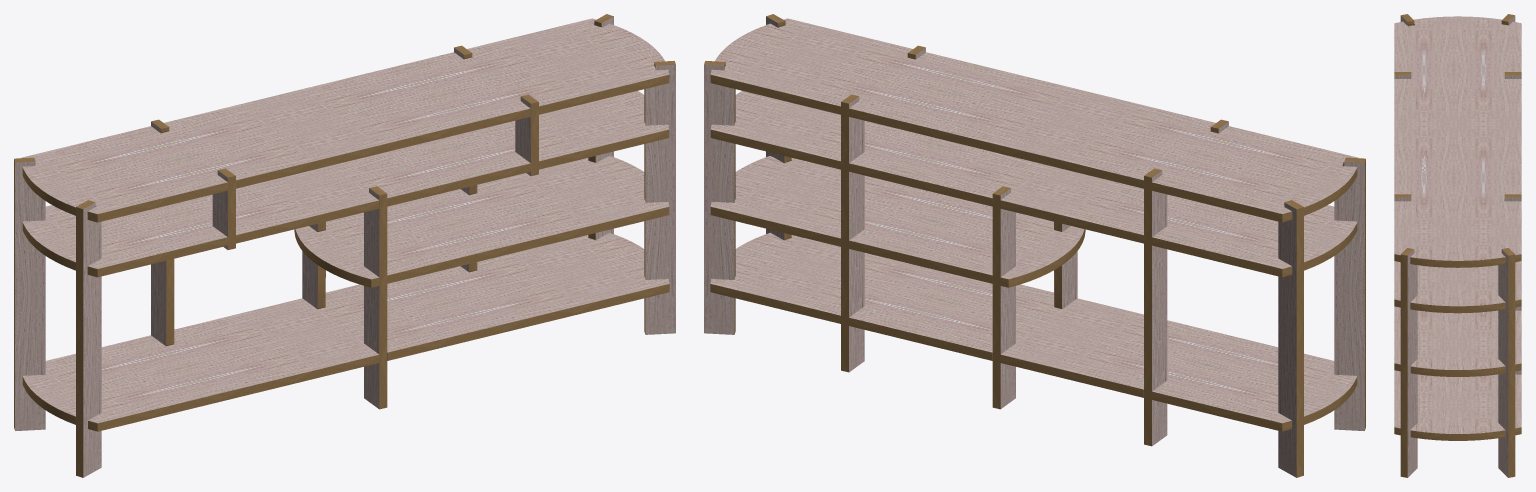
Rendered from NODO_RACK_PARAISO_V3.glb.
The picture shows the model from 3 angles, left to right: view 1: azimuth 30°, elevation 25°; view 2: azimuth 150°, elevation 25°; view 3: azimuth 270°, elevation 25°; orthographic projection. The views are drawn at different scales.
Visible parts, largest first — view 1: A_KIRI, C_KIRI, B_KIRI, D_KIRI, G_right_front_KIRI, F_left_rear_KIRI, F_left_front_KIRI, H_front_KIRI, F_rear_KIRI, E_front_R_KIRI, E_front_L_KIRI, H_rear_KIRI; view 2: A_KIRI, C_KIRI, B_KIRI, D_KIRI, G_right_rear_KIRI, F_left_front_KIRI, F_left_rear_KIRI, F_rear_KIRI, G_rear_KIRI, H_rear_KIRI, H_front_KIRI; view 3: A_KIRI, C_KIRI, D_KIRI, B_KIRI, G_right_front_KIRI, G_right_rear_KIRI, G_rear_KIRI.
Boxes of the visible parts, bbox=[...] form: A_KIRI: bbox=[21, 18, 669, 222]; C_KIRI: bbox=[22, 233, 669, 431]; B_KIRI: bbox=[22, 91, 669, 277]; D_KIRI: bbox=[294, 155, 669, 287]; G_right_front_KIRI: bbox=[644, 61, 675, 334]; F_left_rear_KIRI: bbox=[14, 157, 45, 430]; F_left_front_KIRI: bbox=[76, 200, 101, 477]; H_front_KIRI: bbox=[364, 186, 387, 409]; F_rear_KIRI: bbox=[151, 119, 174, 346]; E_front_R_KIRI: bbox=[515, 94, 538, 176]; E_front_L_KIRI: bbox=[212, 168, 235, 249]; H_rear_KIRI: bbox=[302, 221, 325, 309]; A_KIRI: bbox=[710, 18, 1358, 222]; C_KIRI: bbox=[710, 232, 1357, 431]; B_KIRI: bbox=[710, 91, 1357, 277]; D_KIRI: bbox=[710, 156, 1085, 287]; G_right_rear_KIRI: bbox=[704, 61, 735, 334]; F_left_front_KIRI: bbox=[1334, 157, 1365, 430]; F_left_rear_KIRI: bbox=[1278, 200, 1303, 477]; F_rear_KIRI: bbox=[1144, 168, 1167, 446]; G_rear_KIRI: bbox=[841, 94, 864, 372]; H_rear_KIRI: bbox=[992, 186, 1015, 409]; H_front_KIRI: bbox=[1054, 221, 1077, 309]; A_KIRI: bbox=[1394, 16, 1521, 267]; C_KIRI: bbox=[1394, 370, 1521, 440]; D_KIRI: bbox=[1394, 306, 1521, 376]; B_KIRI: bbox=[1394, 261, 1521, 313]; G_right_front_KIRI: bbox=[1400, 248, 1417, 477]; G_right_rear_KIRI: bbox=[1498, 248, 1515, 477]; G_rear_KIRI: bbox=[1504, 194, 1521, 374].
Size of the model in its own units: 1.36 by 0.578 by 0.3.
Materials: 2 (2 with a texture image).
